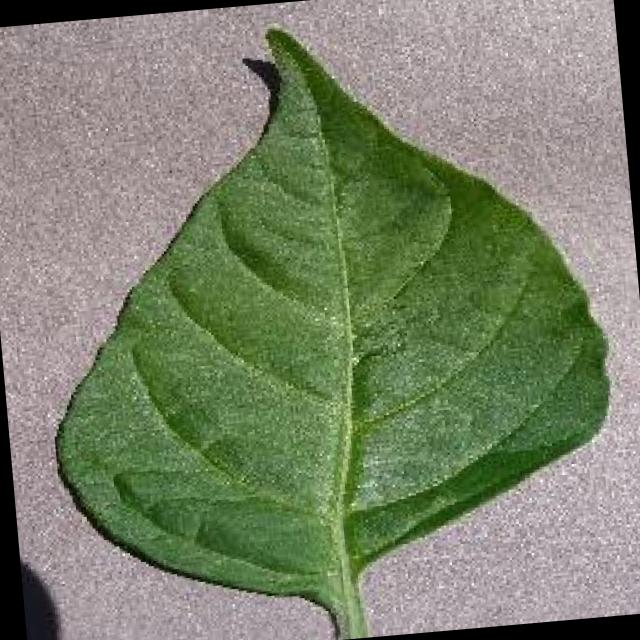Chilli_Healthy: (14, 0, 631, 640)
